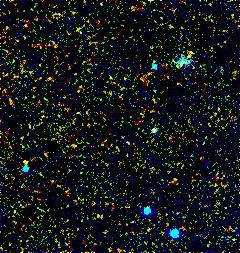star: (10, 145, 40, 175)
